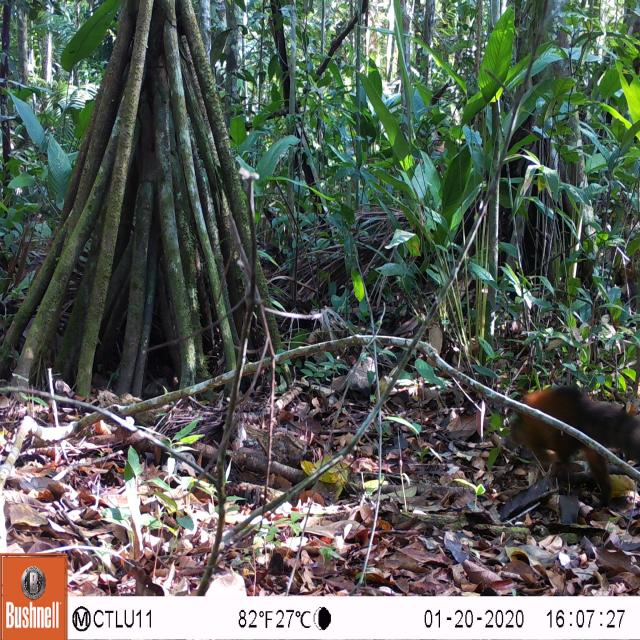South American Coati: (498, 375, 640, 515)
